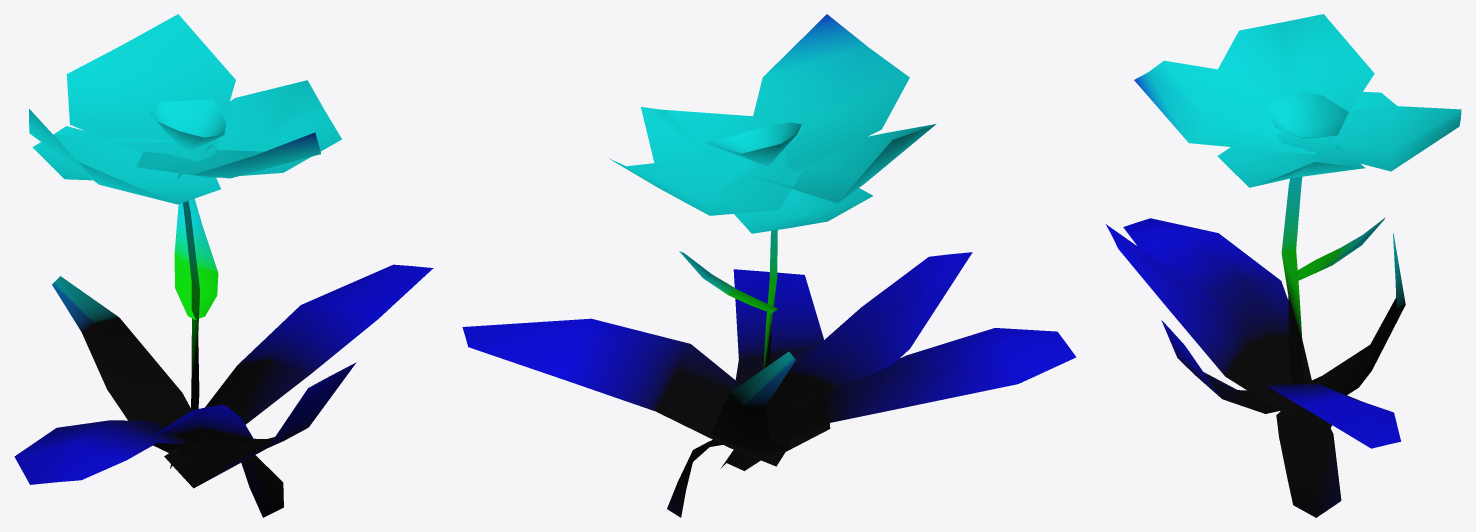
Rendered from SM_BabyBlueEyes_Small_01.fbx.
3 renders of one model, left to right at view 1: azimuth 30°, elevation 25°; view 2: azimuth 150°, elevation 25°; view 3: azimuth 270°, elevation 25°, orthographic. The views are drawn at different scales.
Parts seen in each view (by area): view 1: SM_BabyBlueEyes_Small_01_LOD0; view 2: SM_BabyBlueEyes_Small_01_LOD0; view 3: SM_BabyBlueEyes_Small_01_LOD0.
Boxes of the visible parts, x1,y1,x2,y2 form: SM_BabyBlueEyes_Small_01_LOD0: (14, 14, 433, 517); SM_BabyBlueEyes_Small_01_LOD0: (462, 14, 1076, 517); SM_BabyBlueEyes_Small_01_LOD0: (1105, 14, 1461, 517).
Bounding box in the file's own units: 31.34 × 20.82 × 26.83.
